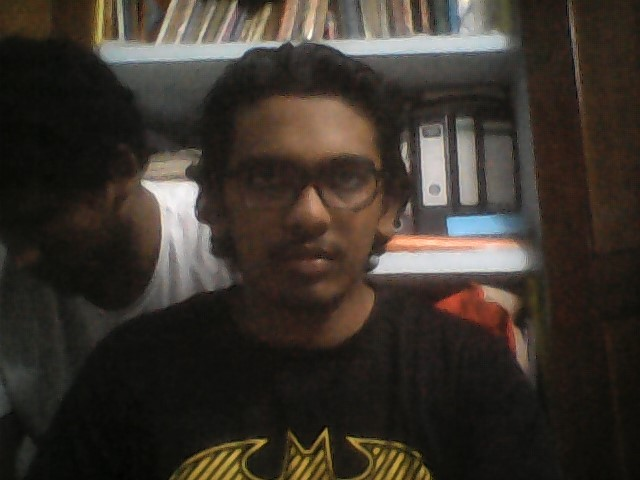person: (128, 43, 517, 467), (1, 26, 186, 384)
